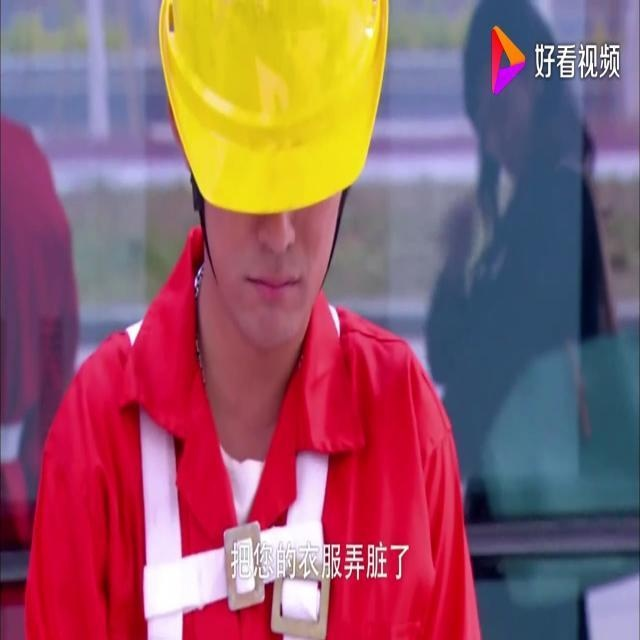Arnes_seguridad: (119, 286, 351, 639)
